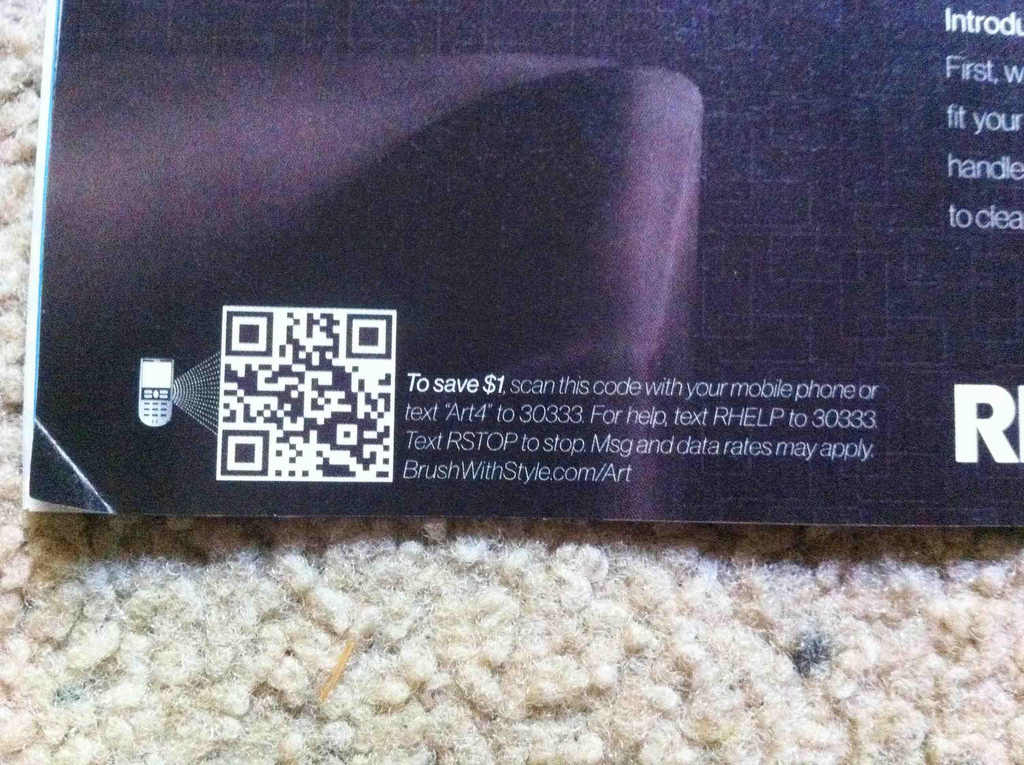QR-CODE: (220, 310, 392, 477)
